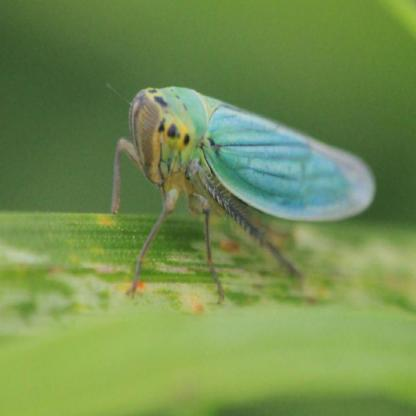Green-Leafhopper: (105, 83, 375, 300)
